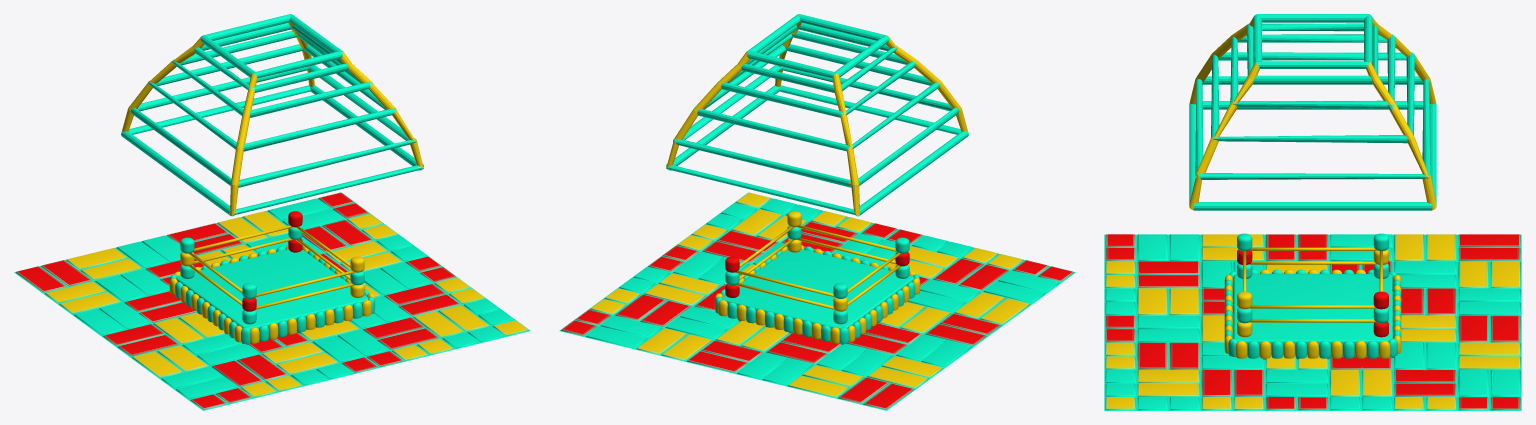
Rendered from Boxing Ring Baked.fbx.
The picture shows the model from 3 angles, left to right: view 1: azimuth 30°, elevation 25°; view 2: azimuth 150°, elevation 25°; view 3: azimuth 270°, elevation 25°; orthographic projection. The views are drawn at different scales.
Parts seen in each view (by area): view 1: Cube.002, Cube.001, Cube; view 2: Cube.002, Cube.001, Cube; view 3: Cube.002, Cube.001, Cube.
Boxes of the visible parts, x1,y1,x2,y2 form: Cube.002: (14, 192, 530, 410); Cube.001: (121, 14, 423, 216); Cube: (169, 211, 375, 344); Cube.002: (559, 192, 1075, 410); Cube.001: (666, 14, 968, 216); Cube: (714, 211, 920, 344); Cube.002: (1104, 234, 1521, 410); Cube.001: (1189, 14, 1436, 210); Cube: (1224, 233, 1401, 359).
Bounding box in the file's own units: 3078 × 3078 × 2338.
1 material, 1 textured.
